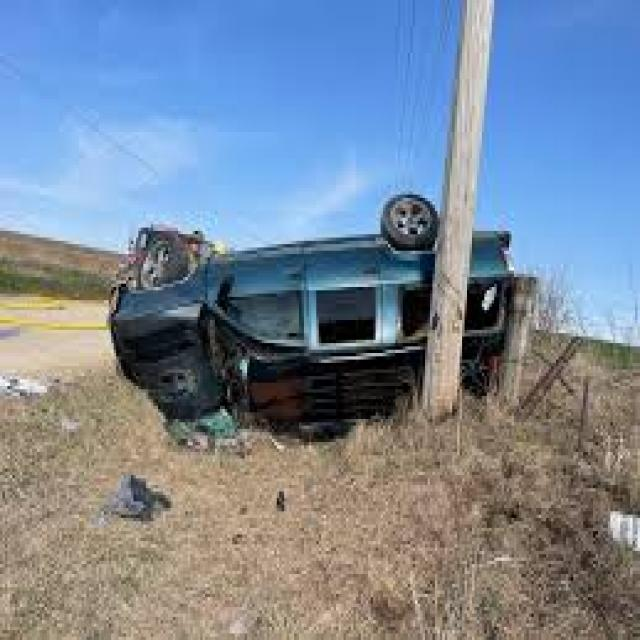accident: (77, 165, 569, 478)
